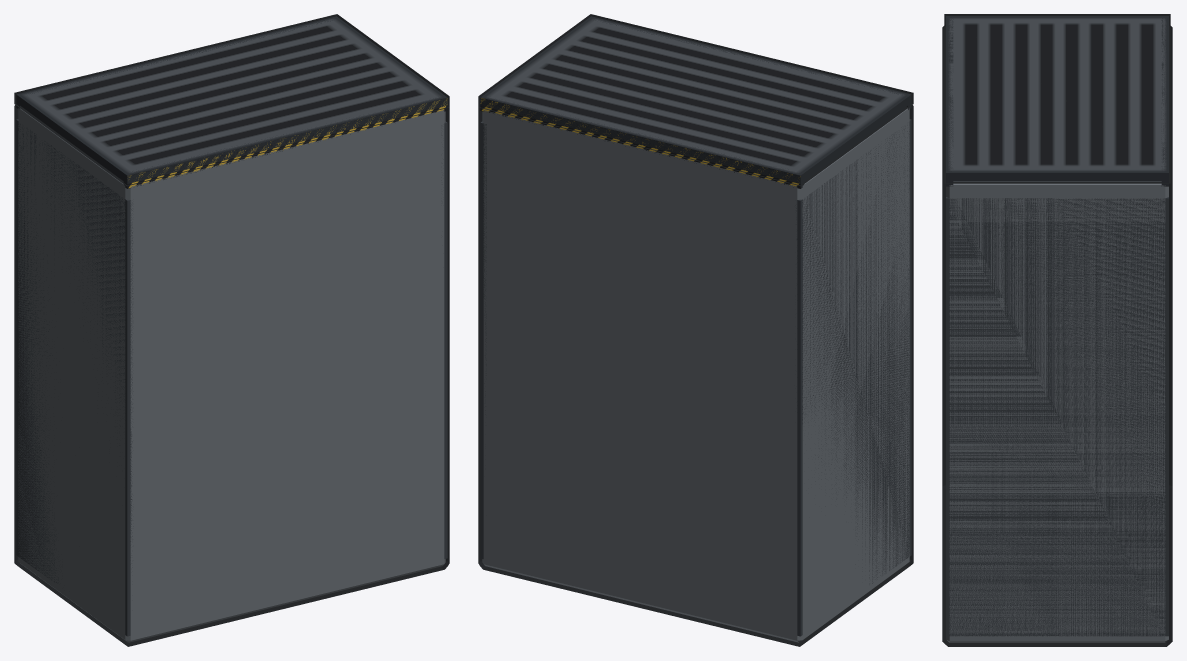
File: SM_StairStep_4.glb
3 renders of one model, left to right at view 1: azimuth 30°, elevation 25°; view 2: azimuth 150°, elevation 25°; view 3: azimuth 270°, elevation 25°, orthographic.
Parts seen in each view (by area): view 1: SM_StairStep_4, SM_StairStep_4_Outline; view 2: SM_StairStep_4, SM_StairStep_4_Outline; view 3: SM_StairStep_4, SM_StairStep_4_Outline.
Boxes of the visible parts, <box> form: SM_StairStep_4: <box>16,16,447,642</box>; SM_StairStep_4_Outline: <box>14,14,449,646</box>; SM_StairStep_4: <box>480,16,911,642</box>; SM_StairStep_4_Outline: <box>478,14,913,646</box>; SM_StairStep_4: <box>946,16,1168,642</box>; SM_StairStep_4_Outline: <box>942,14,1172,646</box>.
Size of the model in its own units: 2.04 by 2.83 by 1.24.
2 materials, 1 textured.
